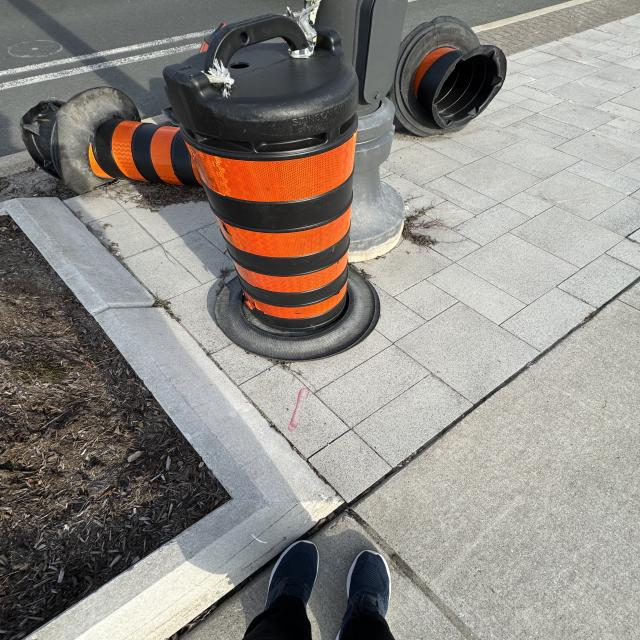Teraffic Barrel: (164, 15, 378, 359), (21, 87, 200, 193), (390, 16, 507, 136)
